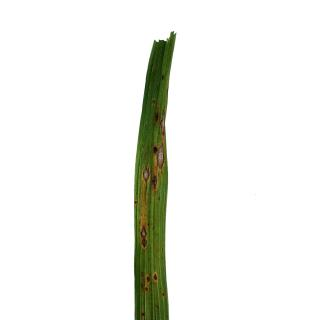Blast: (135, 224, 152, 252), (156, 141, 166, 171), (140, 164, 152, 186), (158, 113, 166, 136), (150, 173, 158, 188), (152, 271, 162, 283), (146, 270, 152, 286)
